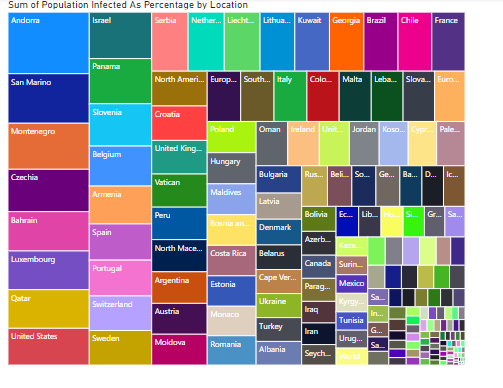

The page's visual inventory and layout, read from the dashboard file:
{"tool":"powerbi","page":{"name":"Page 2","canvas":[1280,720],"ordinal":1},"visuals":[{"type":"treemap","fields":{"Values":["Sum(Highest Infection Rate by Country.Population Infected As Percentage)"],"Group":["Highest Infection Rate by Country.Location"]},"box":[10.1,0,776.7,620.7],"z":0}]}

Visuals, with their boxes on the page's 1280x720 design canvas (x1, y1, x2, y2). These are canvas units, not pixel positions in the 503x388 screenshot, which may show the page scaled, cropped or inside an application window:
treemap - Sum(Highest Infection Rate by Country.Population Infected As Percentage) x Highest Infection Rate by Country.Location: <bbox>10, 0, 787, 621</bbox>
